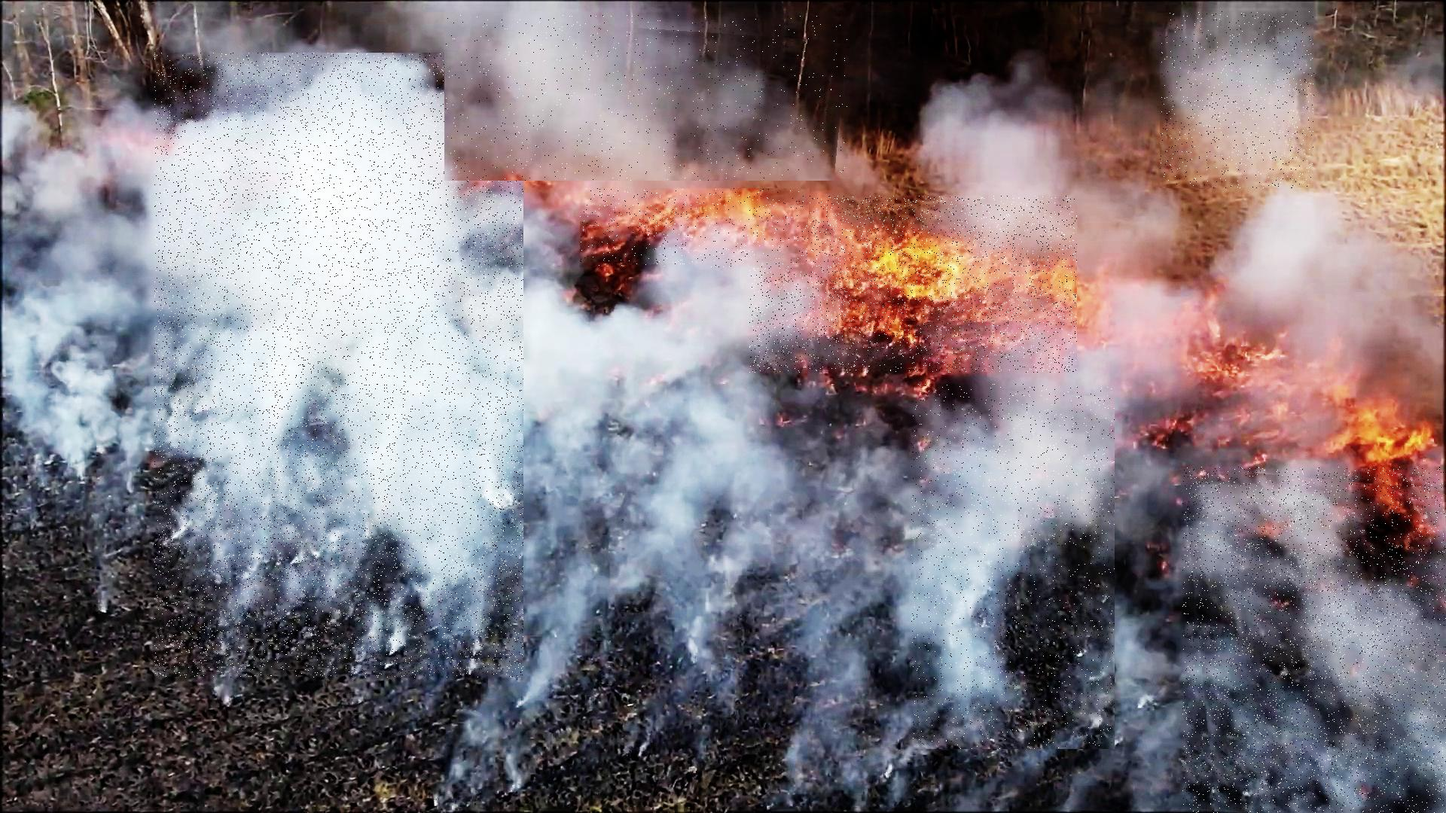fire: (154, 53, 523, 677), (749, 196, 1077, 373), (580, 188, 810, 267)
smoke: (1182, 467, 1446, 813), (911, 384, 1115, 749), (444, 15, 847, 181), (1160, 11, 1314, 188)
